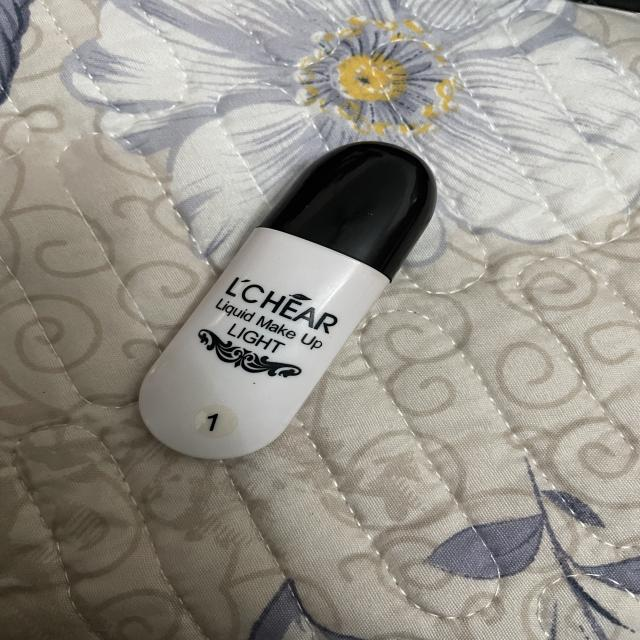concealer: (109, 129, 481, 466)
